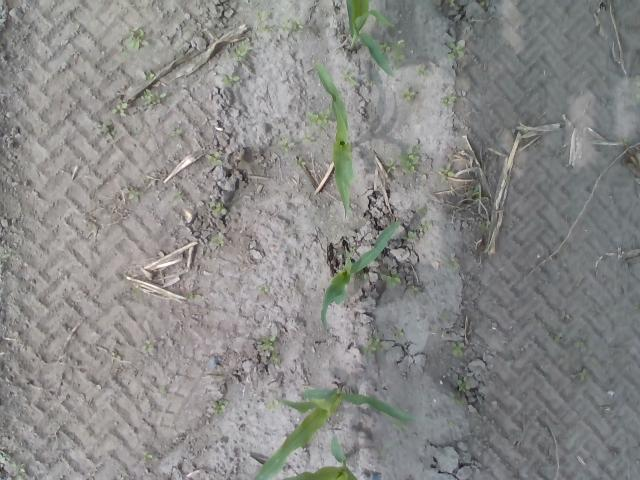Maize: (254, 378, 421, 480), (321, 222, 402, 332), (316, 61, 356, 219), (339, 0, 396, 77), (277, 430, 361, 480)
Weeds: (255, 8, 304, 32), (376, 39, 406, 64), (401, 221, 431, 243), (399, 143, 417, 177), (262, 335, 280, 364), (233, 38, 253, 60), (126, 30, 146, 50), (446, 40, 467, 59), (9, 461, 28, 480), (363, 337, 384, 353), (208, 200, 228, 216), (142, 90, 162, 106), (210, 398, 226, 417), (385, 271, 400, 290), (111, 100, 128, 116), (206, 151, 224, 165), (310, 111, 328, 125), (436, 166, 456, 178), (222, 73, 240, 86), (342, 72, 358, 86), (402, 86, 416, 101), (127, 190, 144, 202), (451, 341, 464, 355), (415, 68, 433, 77), (140, 70, 156, 80), (457, 379, 470, 391), (441, 96, 456, 106), (141, 339, 152, 352), (211, 235, 224, 246), (469, 185, 480, 196), (294, 158, 306, 168), (386, 160, 396, 172), (280, 138, 288, 152), (256, 284, 268, 292), (448, 392, 457, 402), (392, 328, 403, 336), (144, 452, 152, 462), (449, 419, 457, 428), (272, 399, 280, 408)
